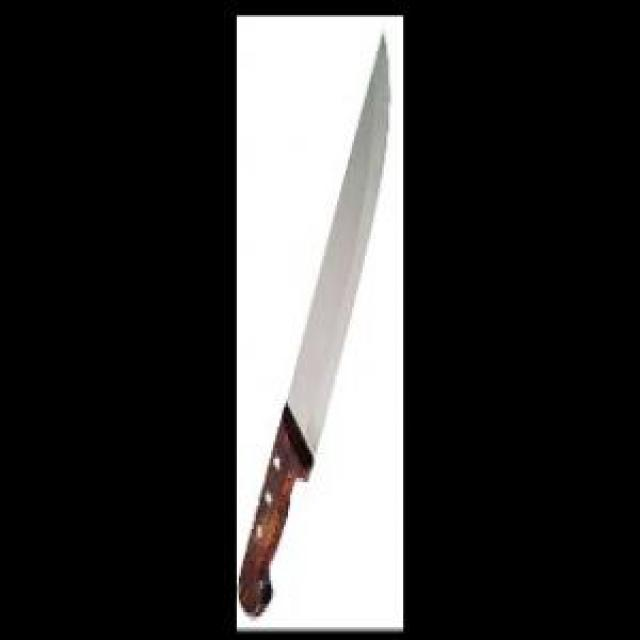knife: (239, 32, 394, 617)
